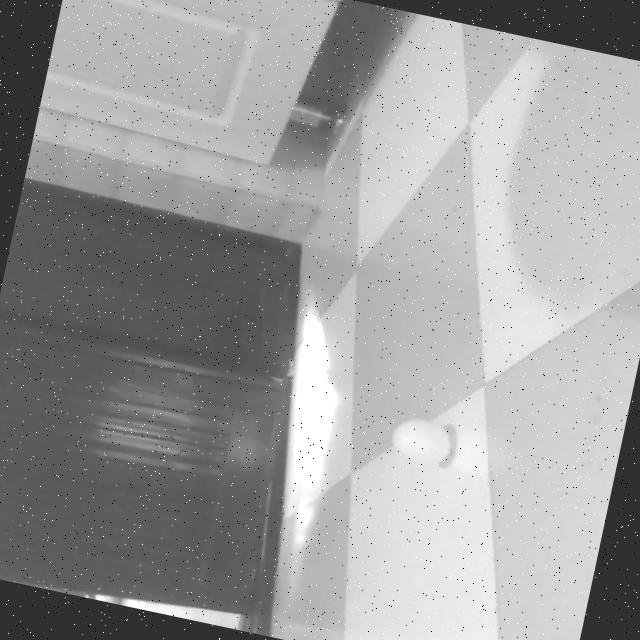ping-pong-ball: (388, 413, 454, 466)
